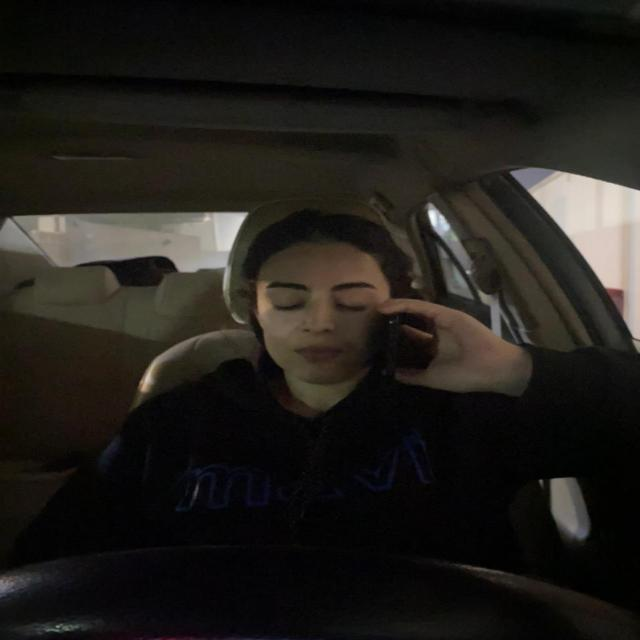mobile: (391, 295, 445, 381)
person: (251, 227, 402, 382)
